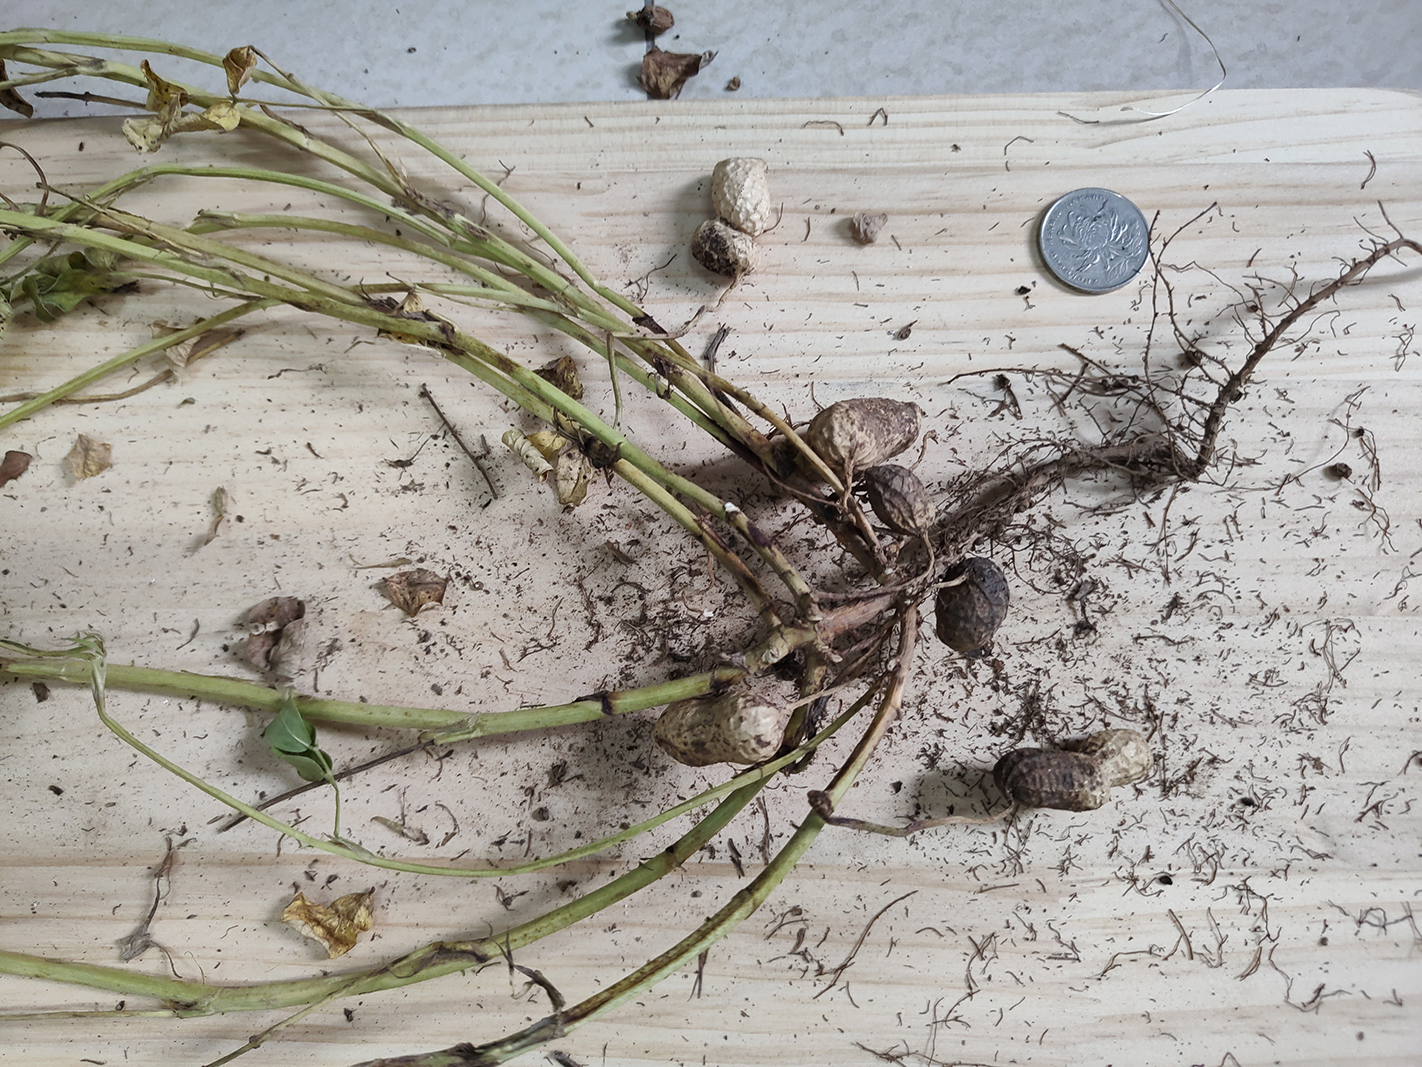h: (691, 155, 775, 277), (656, 693, 786, 764)
l: (991, 731, 1138, 810), (803, 393, 924, 467), (936, 559, 1010, 660), (865, 464, 935, 533)
